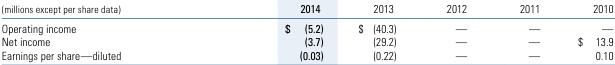table: (0, 1, 612, 62)
table column: (0, 1, 202, 62), (202, 1, 340, 62), (340, 1, 420, 62), (420, 1, 492, 62), (492, 1, 558, 62), (558, 1, 612, 62)
table column header: (0, 1, 612, 17)
table row: (0, 17, 612, 34), (0, 1, 612, 17), (0, 34, 612, 48), (0, 48, 612, 62)
